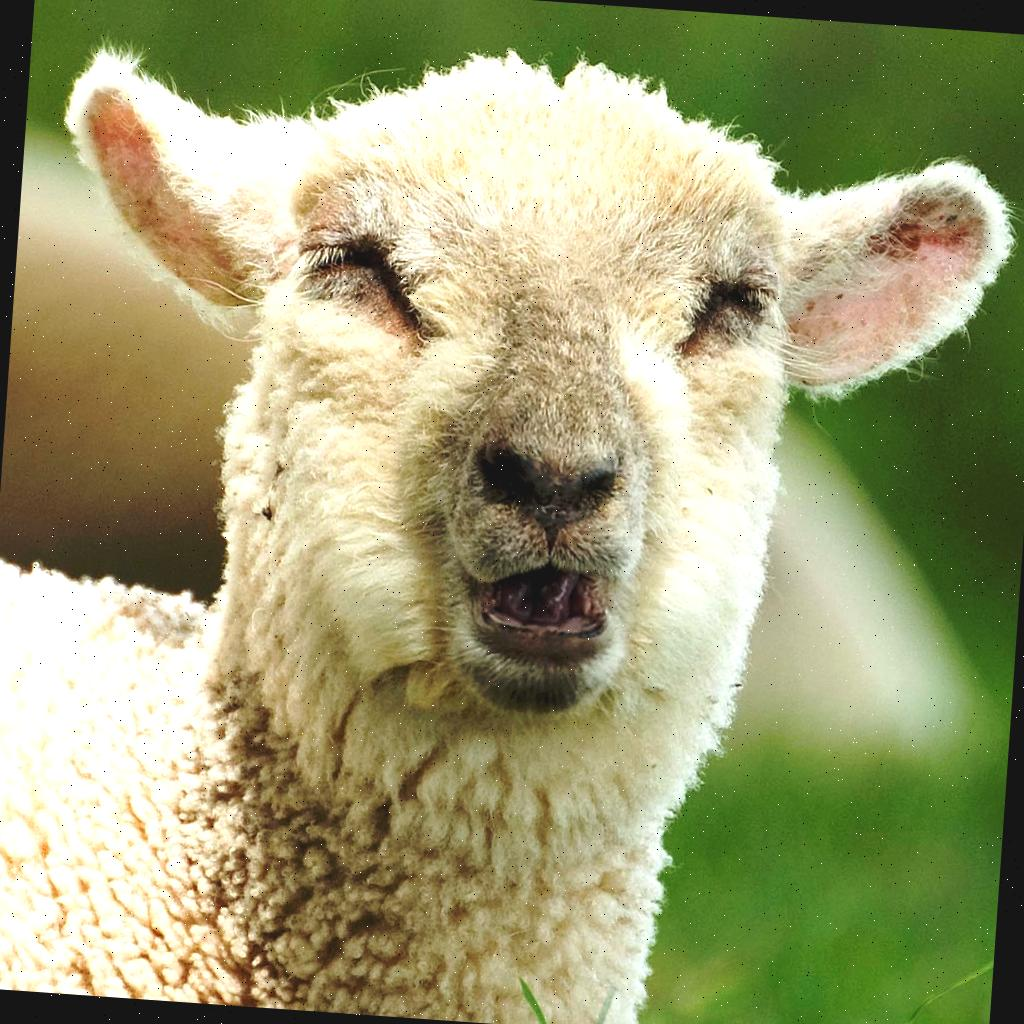Sheep: (0, 13, 1024, 1024)
